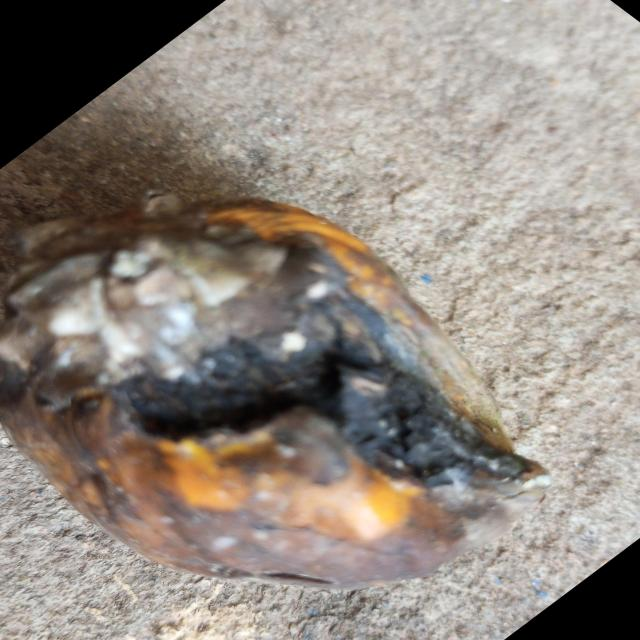damaged: (0, 196, 550, 587)
